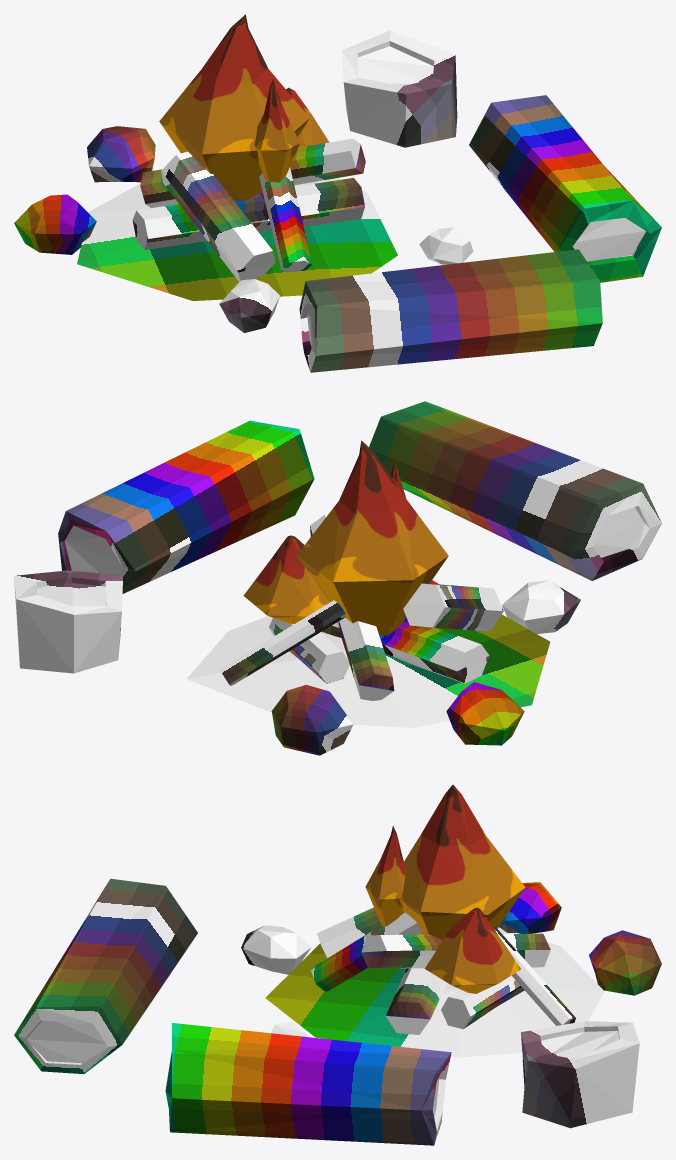
The model's file is CampfireWithSeats.fbx.
3 renders of one model, top to bottom at view 1: azimuth 30°, elevation 25°; view 2: azimuth 150°, elevation 25°; view 3: azimuth 270°, elevation 25°, orthographic. The views are drawn at different scales.
Parts seen in each view (by area): view 1: CampfireWithSeats; view 2: CampfireWithSeats; view 3: CampfireWithSeats.
Boxes of the visible parts, <box> form: CampfireWithSeats: <box>14,14,661,372</box>; CampfireWithSeats: <box>14,401,661,755</box>; CampfireWithSeats: <box>14,784,661,1145</box>.
Size of the model in its own units: 129 by 56.08 by 147.
